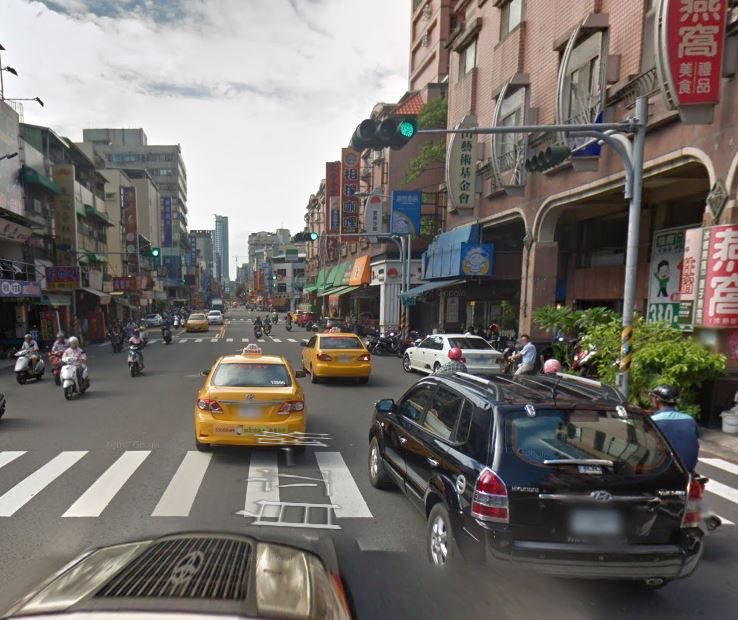Traffic_light_green: (350, 117, 419, 149), (292, 231, 318, 244), (137, 246, 160, 257)
car: (360, 363, 718, 594), (190, 344, 315, 456), (300, 325, 374, 388)
motorcycle: (59, 355, 93, 401), (11, 348, 47, 384), (126, 342, 148, 377)
